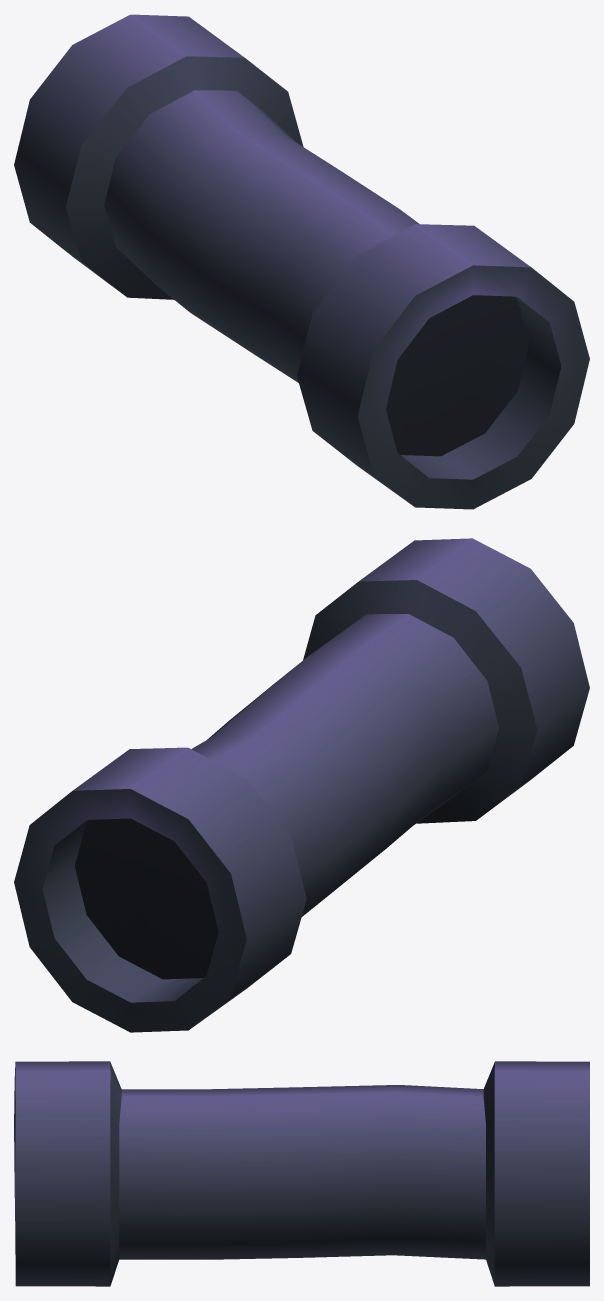
Rendered from undead_pipe_I.fbx.
3 renders of one model, top to bottom at view 1: azimuth 30°, elevation 25°; view 2: azimuth 150°, elevation 25°; view 3: azimuth 270°, elevation 25°, orthographic. The views are drawn at different scales.
Parts seen in each view (by area): view 1: undead_pipe_I; view 2: undead_pipe_I; view 3: undead_pipe_I.
Part boxes in pixels (x1,y1,x2,y2): undead_pipe_I: (14,14,589,509); undead_pipe_I: (14,538,589,1032); undead_pipe_I: (14,1061,589,1286).
Bounding box in the file's own units: 1.61 × 1.58 × 4.04.
